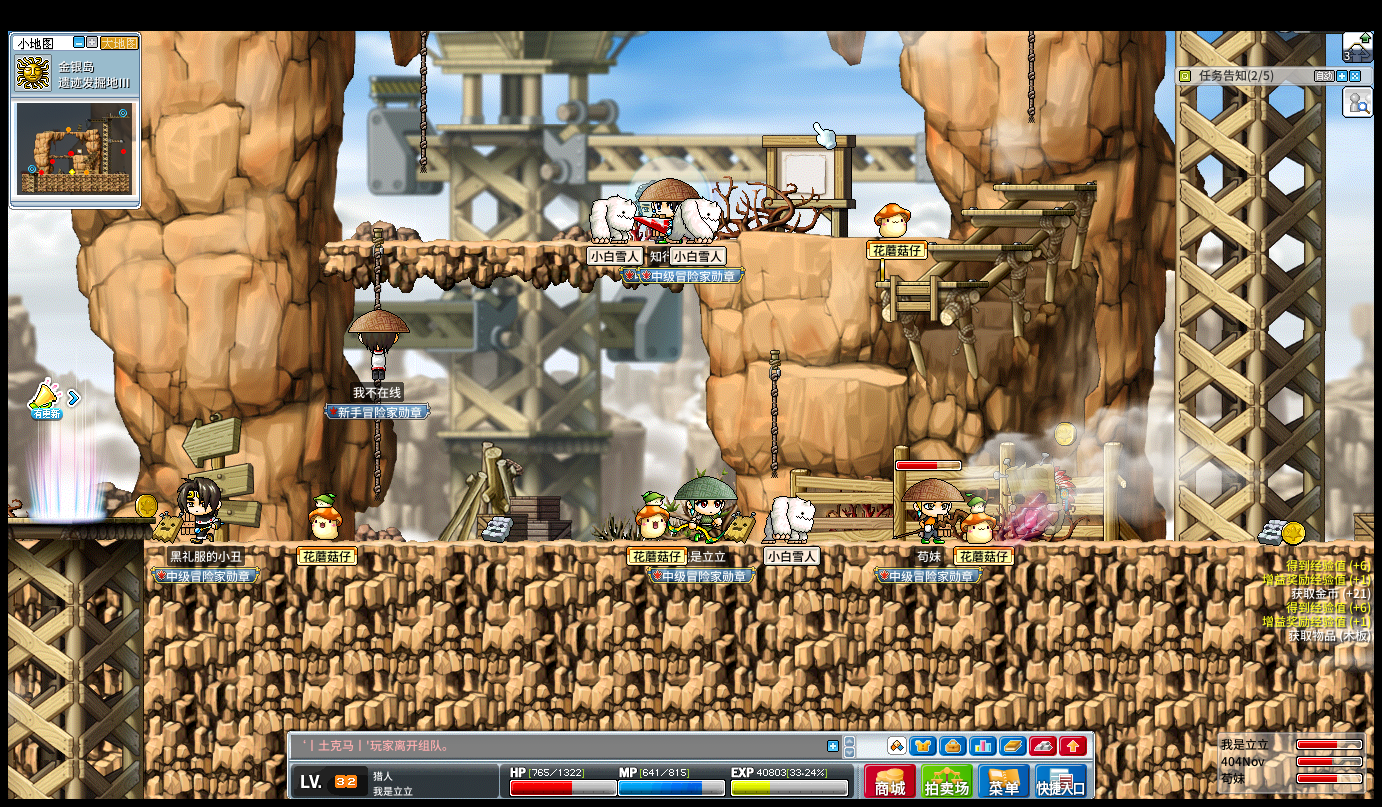floor: (322, 239, 710, 249), (800, 364, 907, 386), (8, 515, 153, 525), (873, 280, 991, 288), (993, 184, 1096, 192), (958, 207, 1071, 214), (924, 244, 1032, 250)
monster: (1001, 455, 1076, 542)
rope: (765, 349, 779, 482), (419, 29, 427, 157), (370, 224, 382, 309), (371, 419, 380, 507), (1026, 30, 1034, 121)
